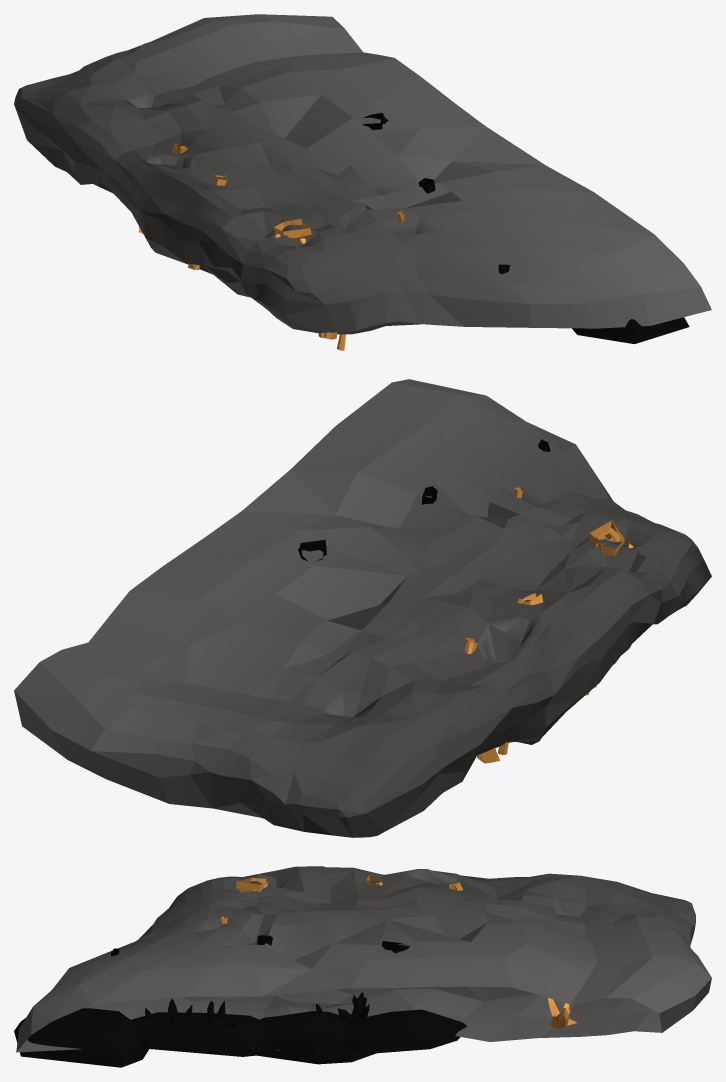
Rendered from Cave01.fbx.
3 renders of one model, top to bottom at view 1: azimuth 30°, elevation 25°; view 2: azimuth 150°, elevation 25°; view 3: azimuth 270°, elevation 25°, orthographic. The views are drawn at different scales.
Parts seen in each view (by area): view 1: caveMesh_forcleanup01:pCube2, pCube8; view 2: caveMesh_forcleanup01:pCube2; view 3: caveMesh_forcleanup01:pCube2, pCube8, pCube7, pCube6, pCube5, GemStalagmiteClump_3Gems4, GemStalagmiteClump_3Gems3, GemStalagmiteClump_3Gems1.
Part boxes in pixels (<box>): caveMesh_forcleanup01:pCube2: <box>14,14,711,334</box>; pCube8: <box>572,317,689,344</box>; caveMesh_forcleanup01:pCube2: <box>14,379,711,837</box>; caveMesh_forcleanup01:pCube2: <box>16,866,711,1052</box>; pCube8: <box>14,1008,148,1067</box>; pCube7: <box>131,1012,276,1056</box>; pCube6: <box>343,1009,467,1054</box>; pCube5: <box>258,1011,375,1064</box>; GemStalagmiteClump_3Gems4: <box>337,992,369,1024</box>; GemStalagmiteClump_3Gems3: <box>547,997,577,1028</box>; GemStalagmiteClump_3Gems1: <box>236,878,268,891</box>.
Size of the model in its own units: 167 by 48.85 by 329.
